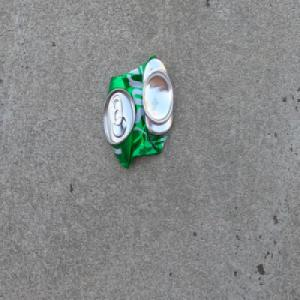SodaCan: (102, 53, 175, 170)
